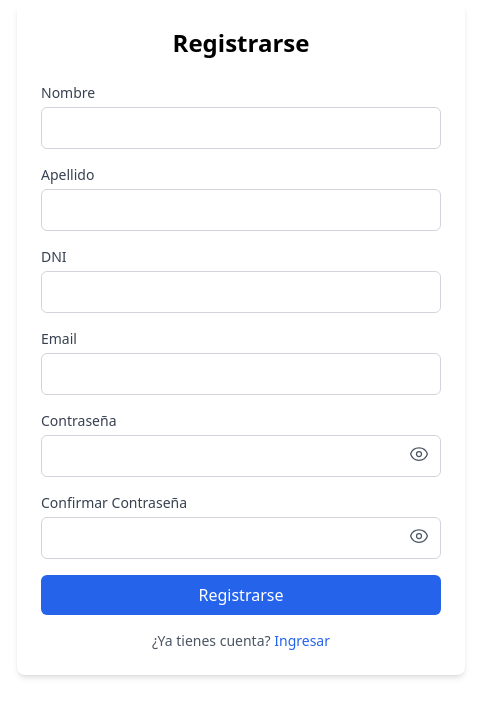
Test case: RegisterForm › validates password strength
Type "Juan" into the field labelled "Nombre" at coordinates (241, 128), box left=41, top=107, right=441, bottom=149
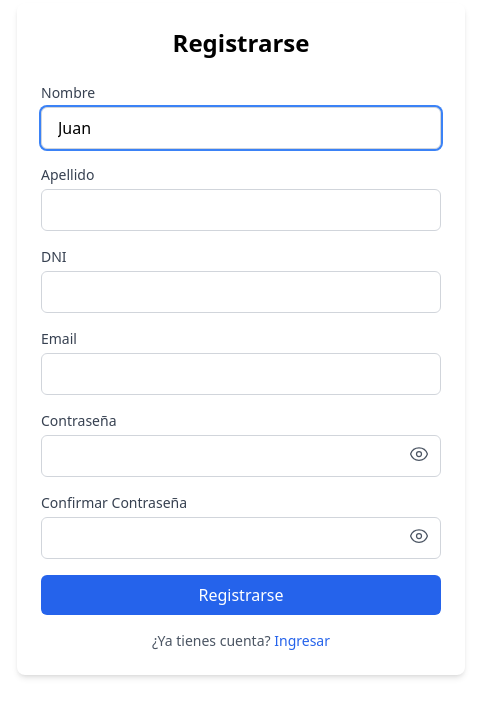
Type "Pérez" into the field labelled "Apellido" at coordinates (241, 210), box left=41, top=189, right=441, bottom=231
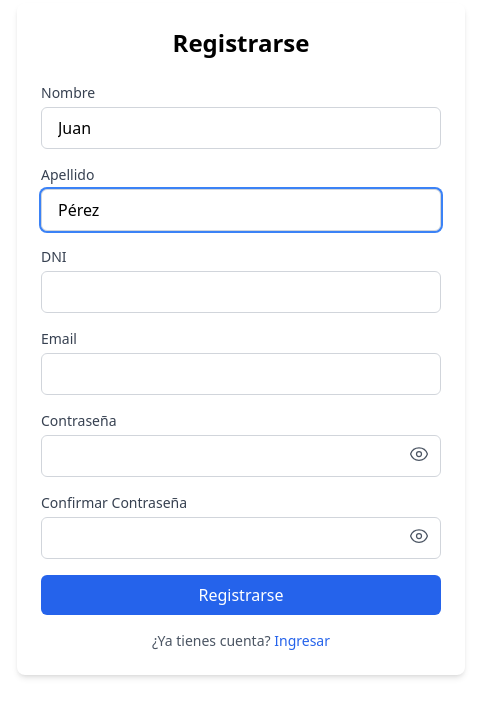
Type "12345678" into the field labelled "DNI" at coordinates (241, 292), box left=41, top=271, right=441, bottom=313
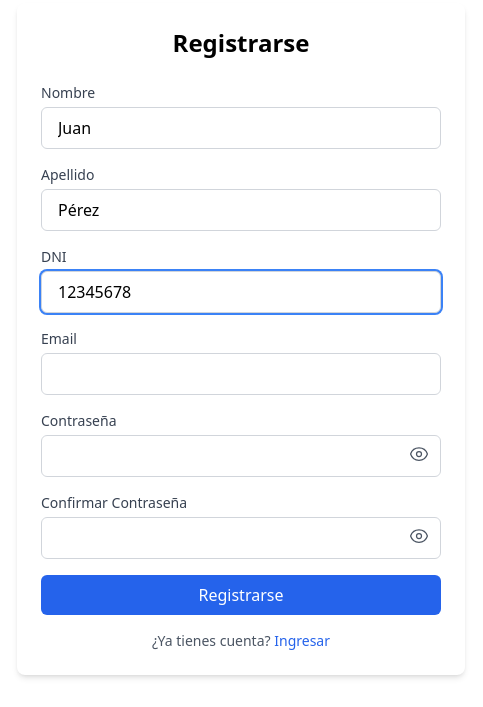
Type "juan@example.com" into the field labelled "Email" at coordinates (241, 374), box left=41, top=353, right=441, bottom=395
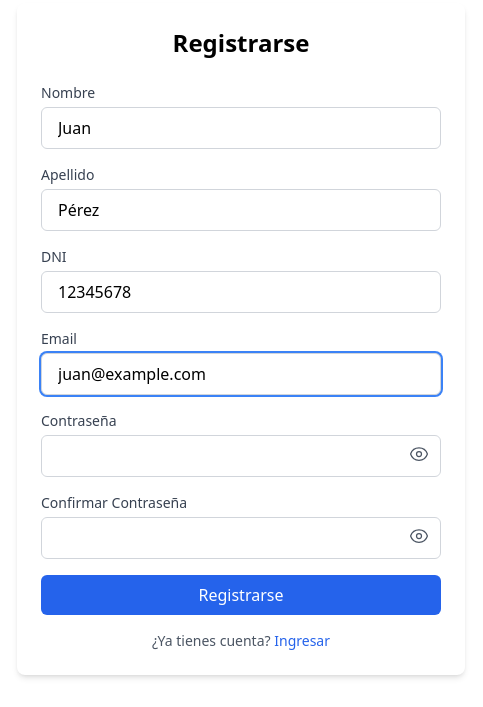
Type "weak" into the password field labelled "Contraseña" at coordinates (241, 456), box left=41, top=435, right=441, bottom=477
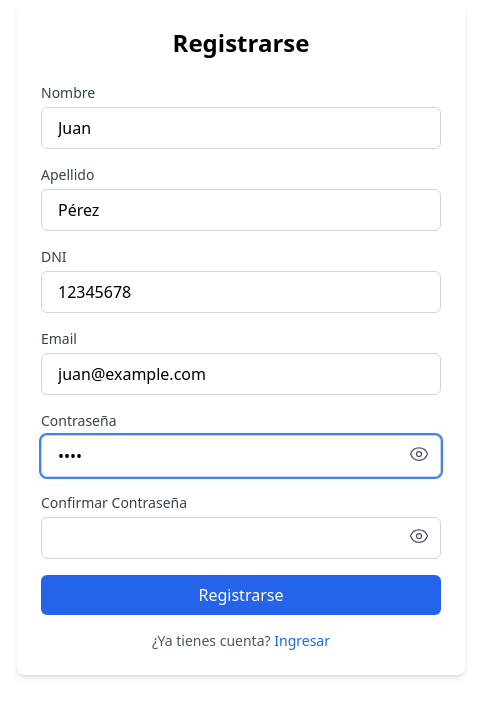
Click the button "Registrarse" at coordinates (241, 595), box left=41, top=575, right=441, bottom=615
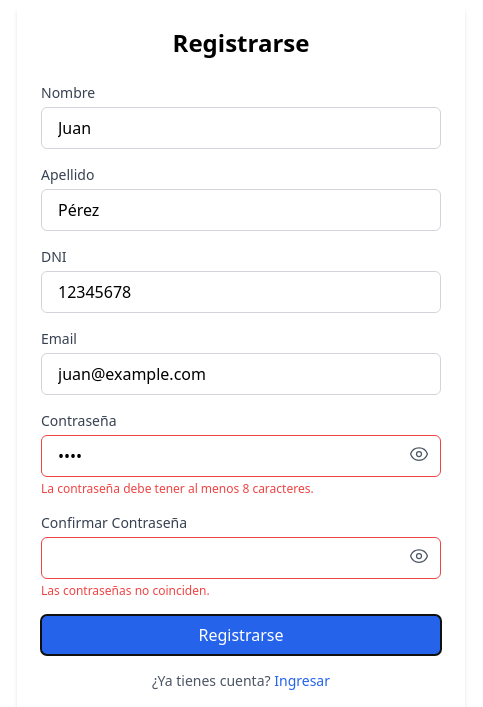
expect the text "La contraseña debe tener al menos 8 caracteres." is shown: met, box left=41, top=480, right=314, bottom=497
